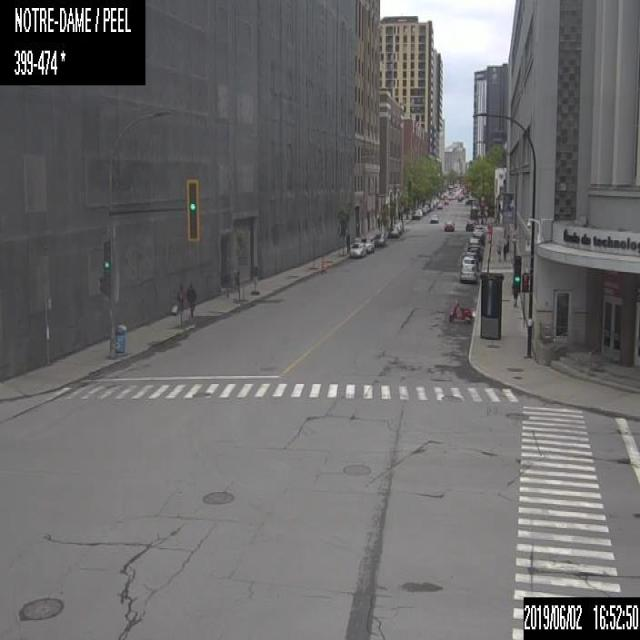construction: (320, 256, 326, 273)
pedestrian: (176, 282, 185, 324), (186, 280, 194, 317), (233, 270, 240, 300), (502, 240, 507, 261), (345, 231, 350, 252), (512, 288, 517, 308), (496, 239, 500, 262)
vehicle: (448, 299, 475, 321), (459, 265, 476, 281), (350, 241, 365, 258), (465, 250, 479, 266), (361, 236, 374, 252), (467, 238, 481, 252), (460, 254, 476, 266), (374, 232, 384, 247), (443, 218, 454, 230), (411, 208, 422, 218), (465, 220, 474, 232), (473, 232, 483, 242), (388, 226, 398, 236), (393, 222, 402, 233), (429, 212, 438, 222), (473, 225, 483, 232), (443, 198, 449, 206), (436, 201, 442, 208)
